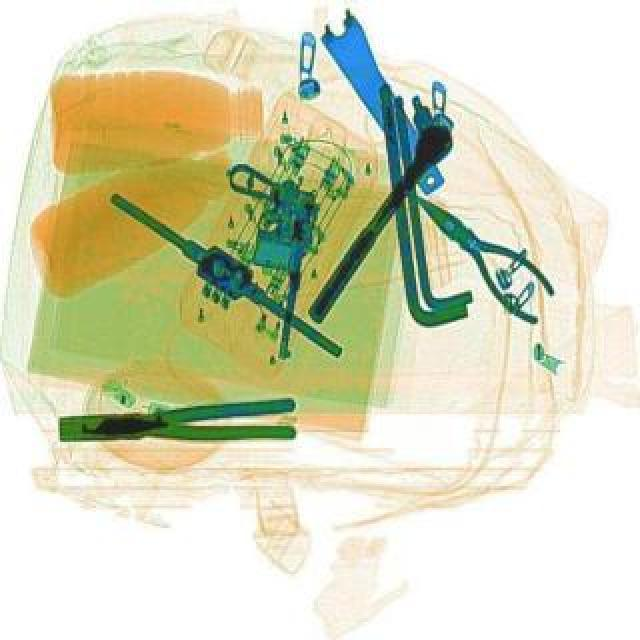gun: (200, 158, 320, 358)
wrench: (398, 180, 566, 328), (58, 398, 294, 446)
